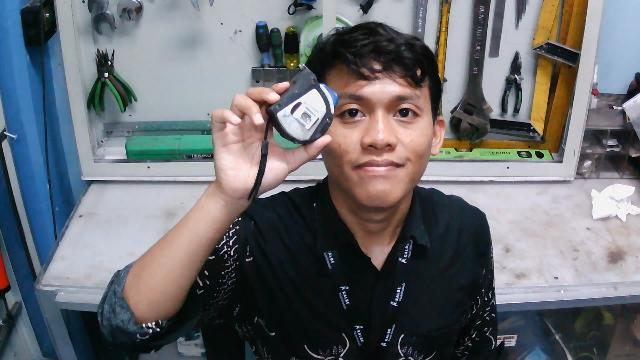meteran: (244, 64, 342, 203)
